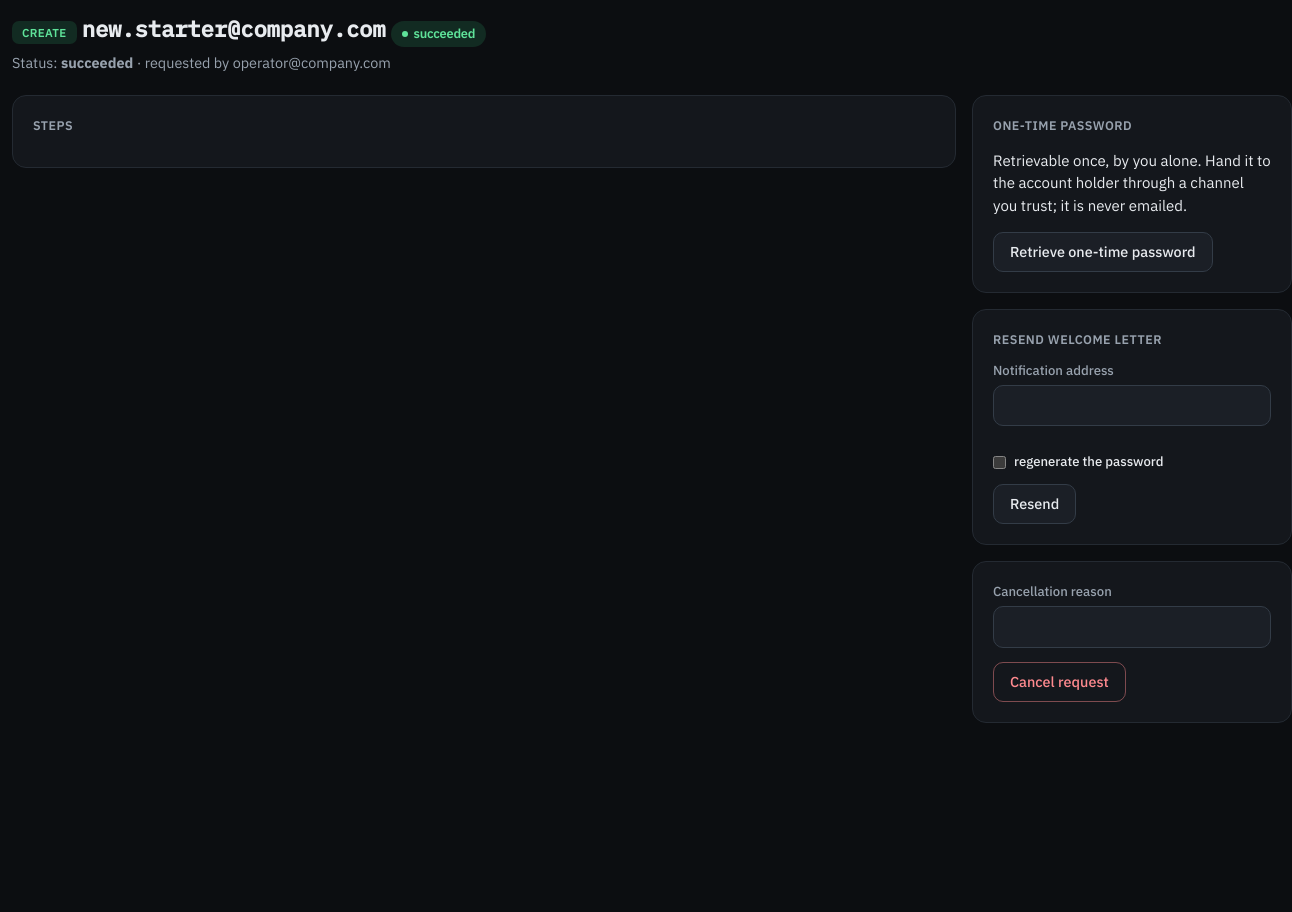
Test: REQ-017: the requester retrieves the one-time password, once › explains a 410 as spent rather than rendering an outage
Click the button "Retrieve one-time password": (1103, 252) [993,232,1213,272]
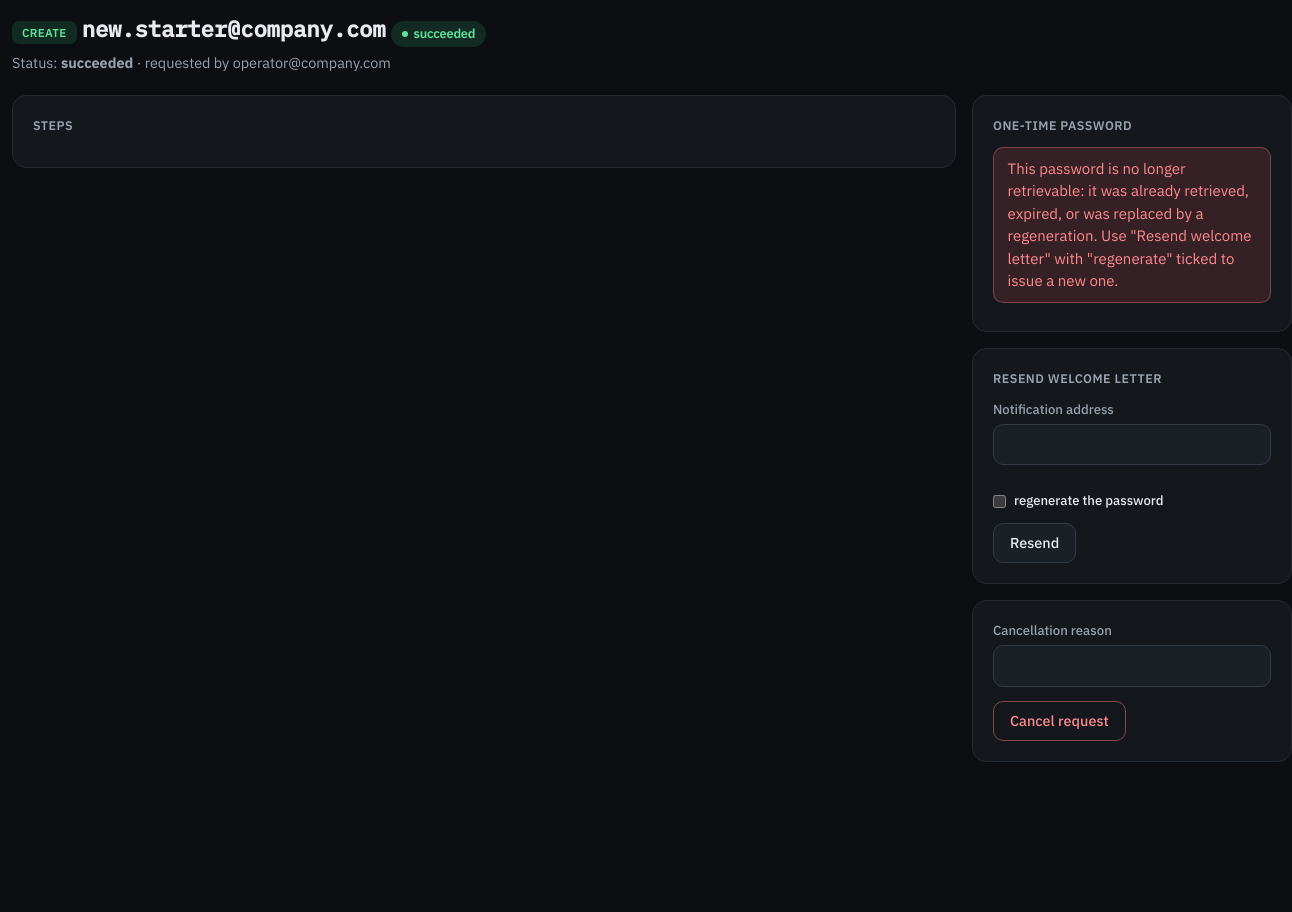
Now the text "no longer retrievable" is shown, box [1008,158,1252,290]
